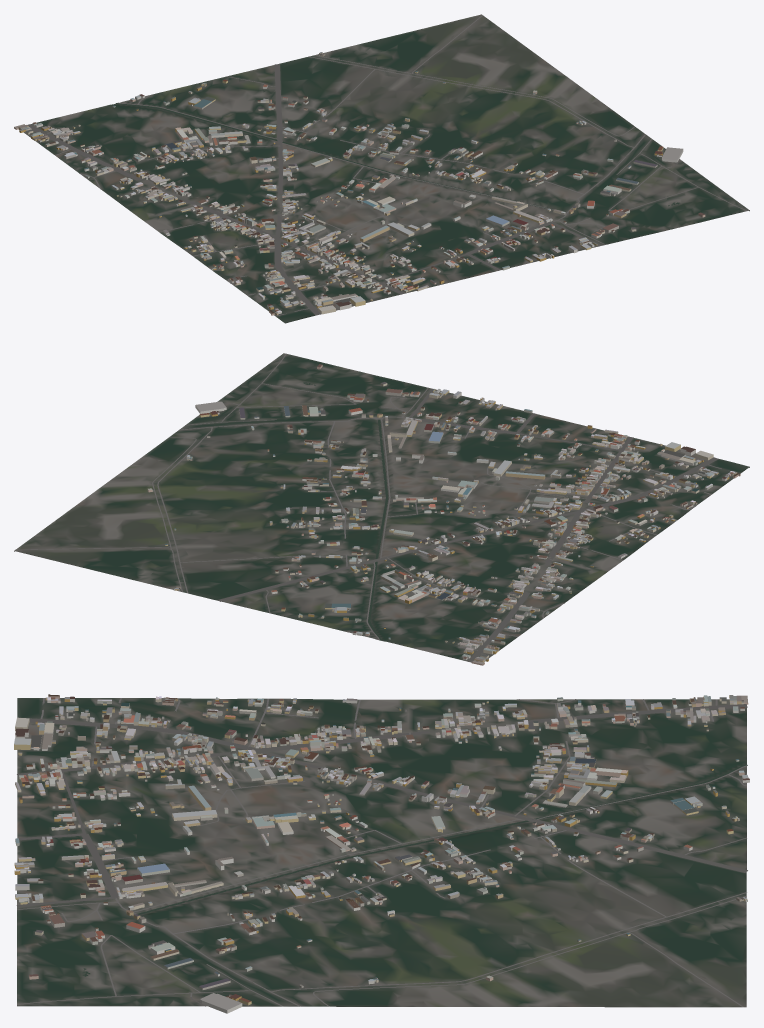
The picture shows the model from 3 angles, top to bottom: view 1: azimuth 30°, elevation 25°; view 2: azimuth 150°, elevation 25°; view 3: azimuth 270°, elevation 25°; orthographic projection. The views are drawn at different scales.
Visible parts, largest first — view 1: ground, buildings, roads, water; view 2: ground, buildings, roads, water; view 3: ground, buildings, roads, water.
Boxes of the visible parts, x1,y1,x2,y2 form: ground: (24, 14, 749, 323); buildings: (14, 52, 705, 315); roads: (27, 15, 747, 316); water: (115, 103, 679, 212); ground: (14, 353, 749, 661); buildings: (147, 364, 740, 665); roads: (15, 353, 721, 662); water: (303, 382, 388, 640); ground: (17, 698, 746, 1007); buildings: (14, 694, 749, 1013); roads: (16, 697, 747, 1007); water: (82, 764, 747, 976).
Size of the model in its own units: 1439 by 19.89 by 1413.
